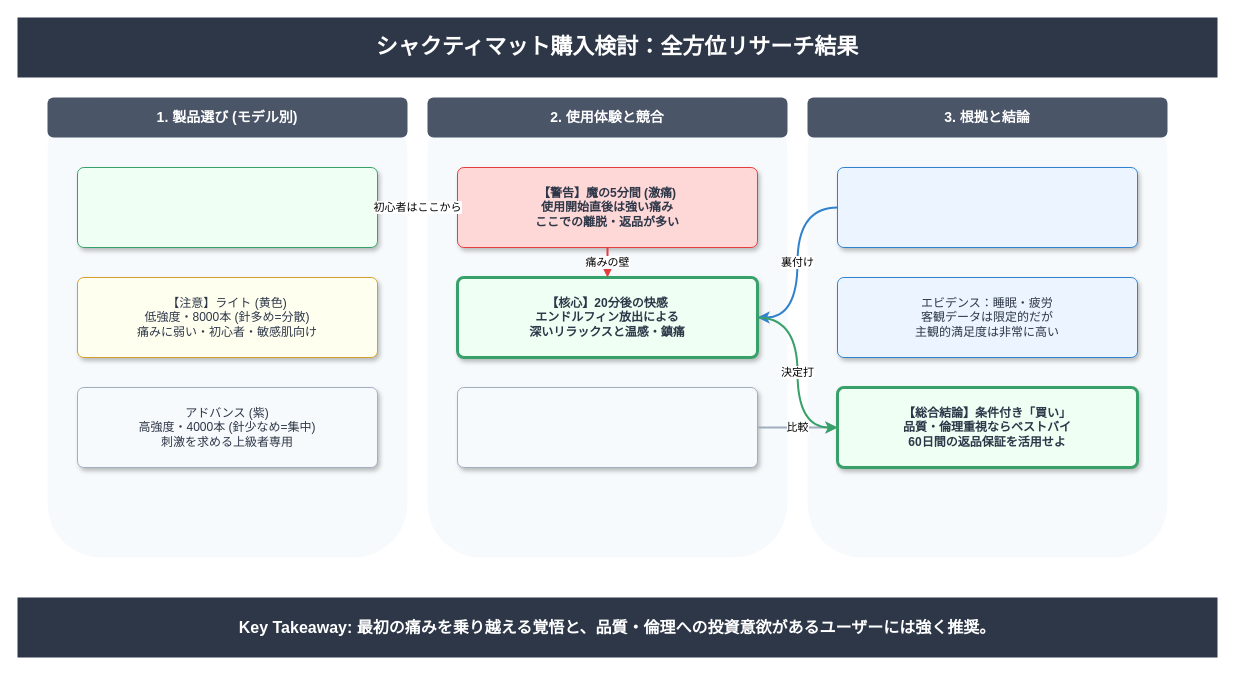
This 1234x674 diagram has some shape labels left out. Each missing label, with the centre of its shape:
【推奨】オリジナル (緑/橙) 標準強度・6000本 最もバランスが良い標準モデル: [228,208]
エビデンス：腰痛・肩こり 運動療法との併用で 中程度の有効性が示唆される: [988,208]
格安競合品 (LifeZempra等) 安価だが針が鈍く耐久性が低い 倫理的製造プロセスではない: [608,428]
